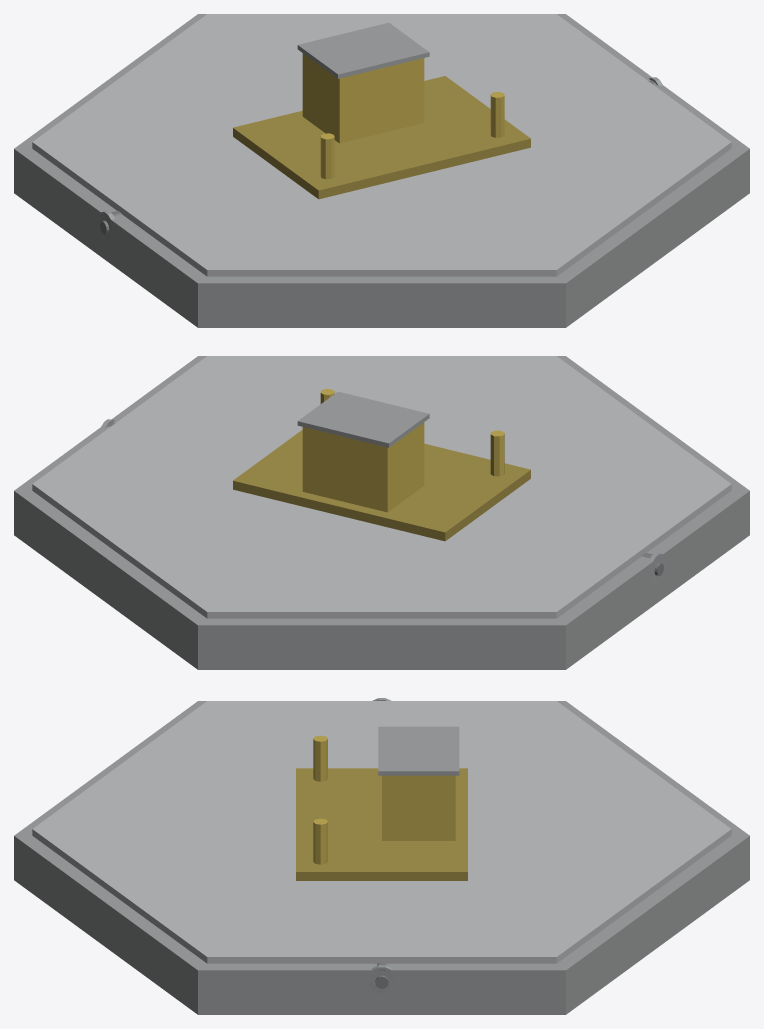
Rendered from harbor_s1_100.glb.
The picture shows the model from 3 angles, top to bottom: view 1: azimuth 30°, elevation 25°; view 2: azimuth 150°, elevation 25°; view 3: azimuth 270°, elevation 25°; orthographic projection.
Visible parts, largest first — view 1: HB_Base; view 2: HB_Base; view 3: HB_Base.
Boxes of the visible parts, x1,y1,x2,y2 form: HB_Base: (14, 14, 749, 327); HB_Base: (14, 356, 749, 669); HB_Base: (14, 698, 749, 1014).
Bounding box in the file's own units: 5.25 × 1.18 × 6.
